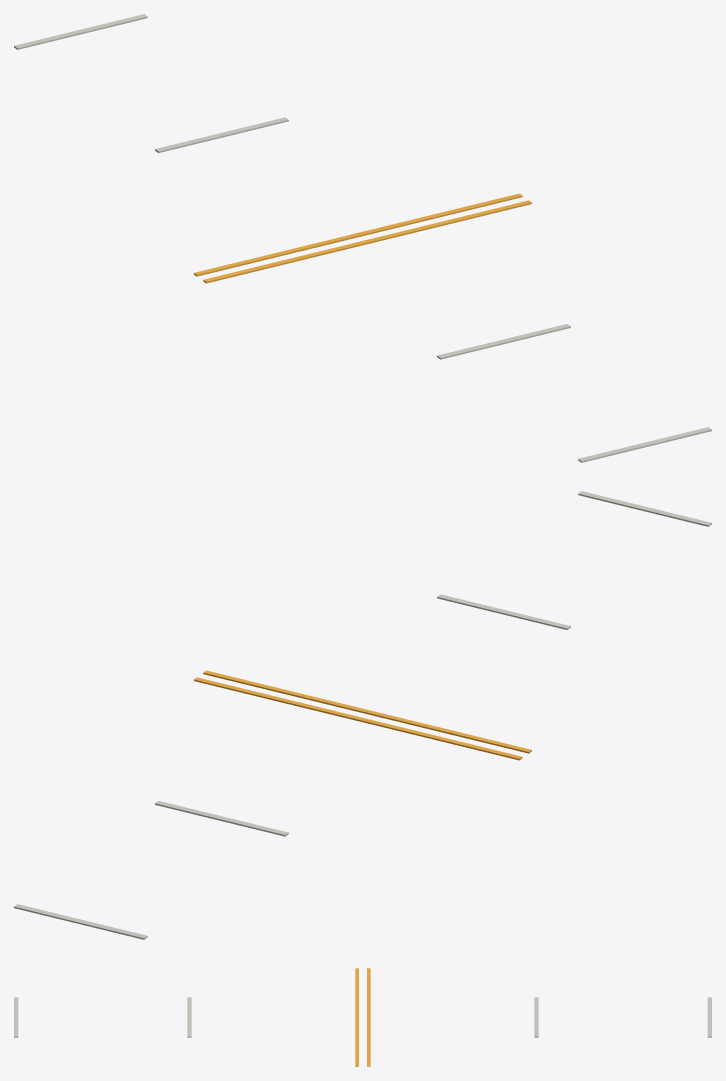
Rendered from Road_6Lane_4m_LaneMarkings.glb.
3 views of the same model, one above another, from view 1: azimuth 30°, elevation 25°; view 2: azimuth 150°, elevation 25°; view 3: azimuth 270°, elevation 25° (orthographic). The views are drawn at different scales.
Visible parts, largest first — view 1: Road_6Lane_4m_LaneMarkings; view 2: Road_6Lane_4m_LaneMarkings; view 3: Road_6Lane_4m_LaneMarkings.
Part boxes in pixels (x1,y1,x2,y2): Road_6Lane_4m_LaneMarkings: (14,14,711,462); Road_6Lane_4m_LaneMarkings: (14,491,711,939); Road_6Lane_4m_LaneMarkings: (14,968,711,1066).
Bounding box in the file's own units: 4 × 0.018 × 12.07.
